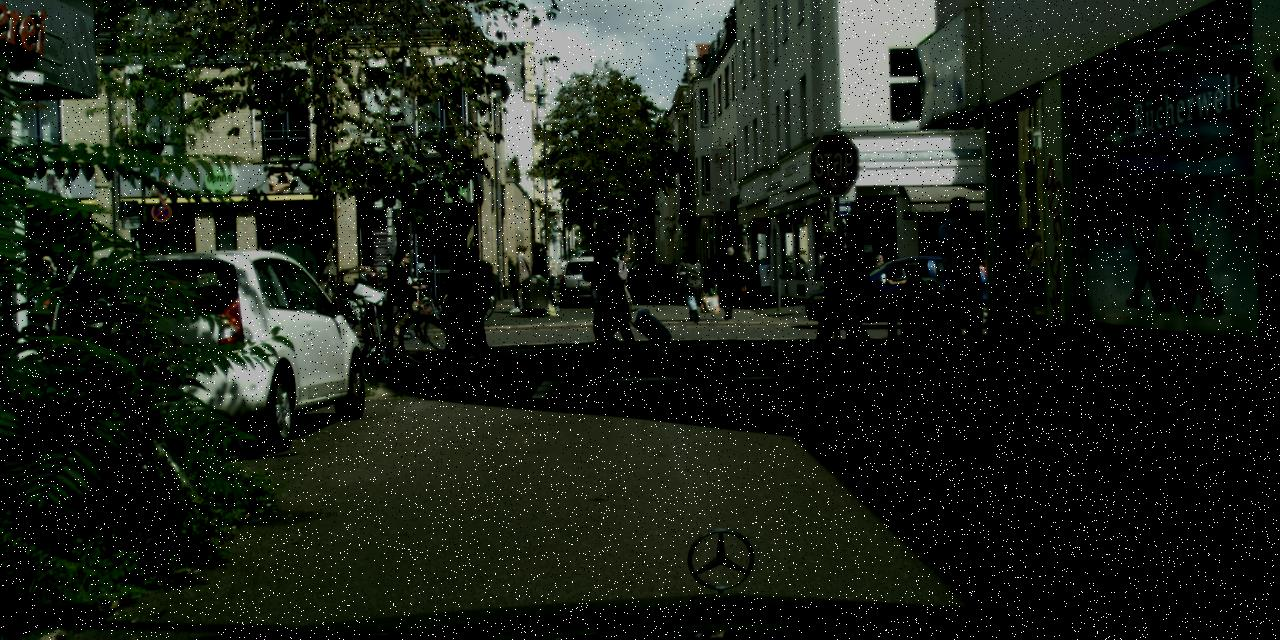ped: (926, 195, 996, 364), (808, 232, 860, 359), (582, 243, 632, 363), (438, 250, 488, 368), (808, 236, 856, 355), (452, 244, 500, 360), (591, 258, 631, 358), (388, 248, 424, 336), (678, 249, 706, 320), (714, 247, 742, 317), (525, 242, 553, 310), (510, 245, 535, 308), (612, 253, 636, 311)
